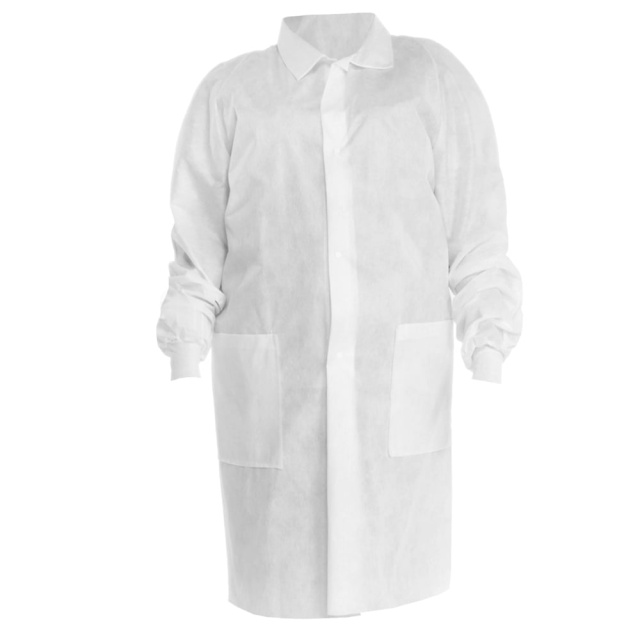Coat: (94, 22, 552, 616)
